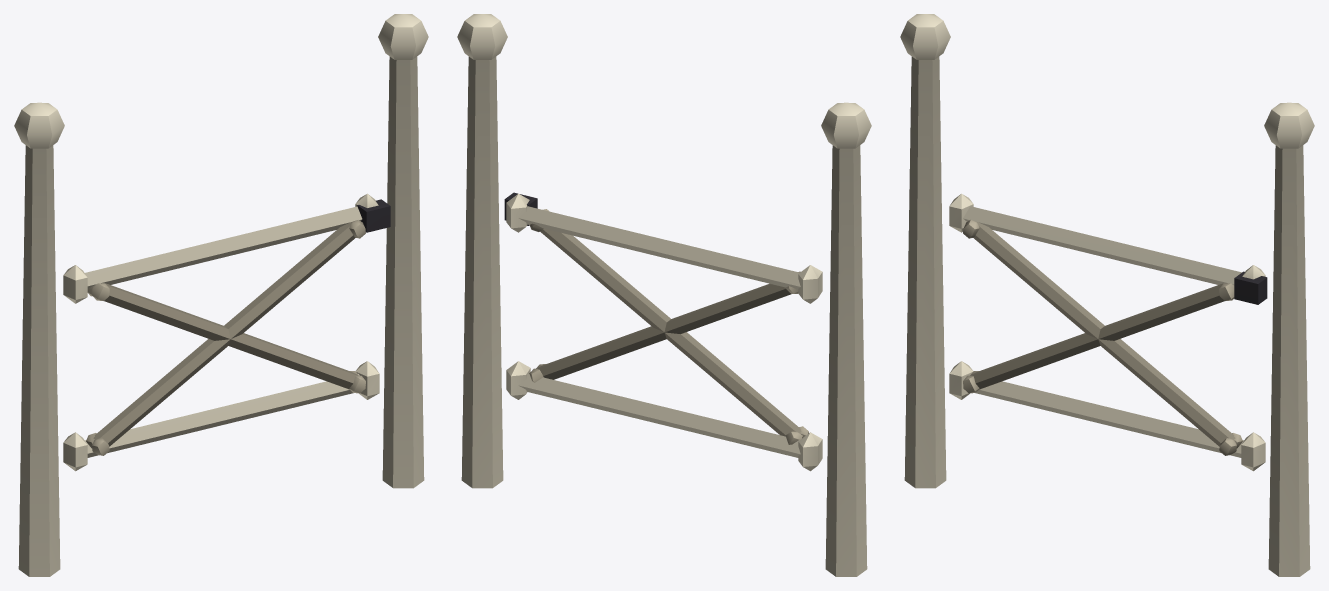
File: fence_bone_gate.glb
3 views of the same model, side by side, from view 1: azimuth 30°, elevation 25°; view 2: azimuth 150°, elevation 25°; view 3: azimuth 330°, elevation 25° (orthographic).
Visible parts, largest first — view 1: fence_bone_gate, door; view 2: fence_bone_gate, door; view 3: fence_bone_gate, door.
Part boxes in pixels (left/top/right/bottom): fence_bone_gate: left=14, top=14, right=428, bottom=576; door: left=63, top=193, right=390, bottom=471; fence_bone_gate: left=457, top=14, right=871, bottom=576; door: left=504, top=192, right=822, bottom=471; fence_bone_gate: left=900, top=14, right=1314, bottom=576; door: left=949, top=193, right=1267, bottom=471.
Bounding box in the file's own units: 1.01 × 1.11 × 0.11.
